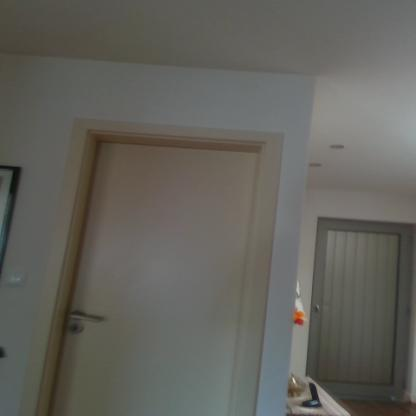closed: (55, 107, 295, 411), (305, 202, 416, 409)
